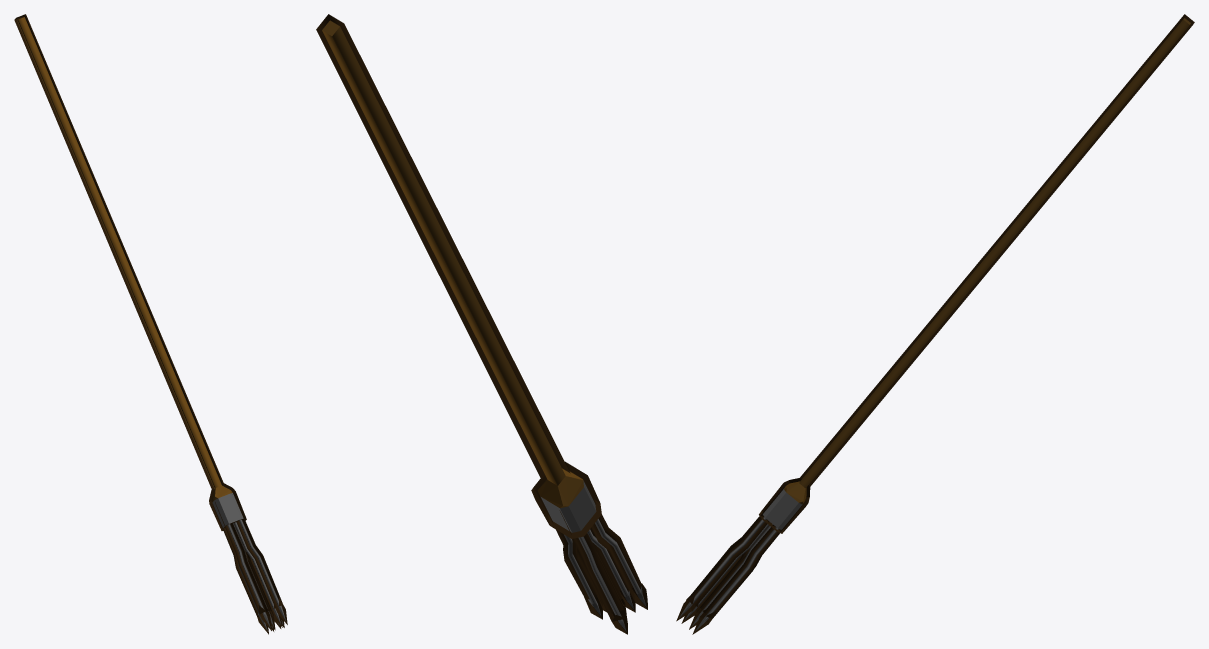
Rendered from Spear.FBX.
3 renders of one model, left to right at view 1: azimuth 30°, elevation 25°; view 2: azimuth 150°, elevation 25°; view 3: azimuth 270°, elevation 25°, orthographic. The views are drawn at different scales.
Visible parts, largest first — view 1: Spear; view 2: Spear; view 3: Spear.
Boxes of the visible parts, left/top/right/bottom form: Spear: left=14, top=14, right=287, bottom=634; Spear: left=316, top=14, right=647, bottom=634; Spear: left=676, top=14, right=1194, bottom=634.
Size of the model in its own units: 46.37 by 312 by 249.
